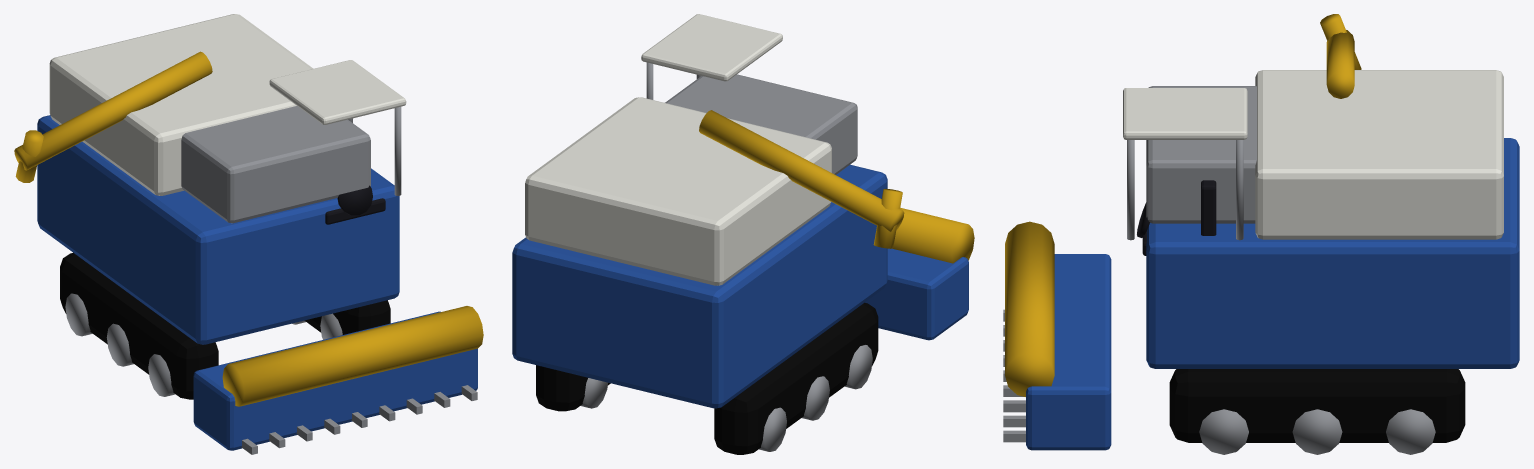
The model's file is combine.glb.
3 renders of one model, left to right at view 1: azimuth 30°, elevation 25°; view 2: azimuth 150°, elevation 25°; view 3: azimuth 270°, elevation 25°, orthographic. The views are drawn at different scales.
Parts seen in each view (by area): view 1: Cube, Cube.001, Cube.002, Cube.006, Cylinder.005, Cube.016, Cube.005, Cylinder.003, Cube.017, Cylinder.008, Cylinder.006, Cylinder.007 (+4 smaller); view 2: Cube, Cube.001, Cube.016, Cube.002, Cube.006, Cylinder.003, Cube.005, Cylinder.005, Cube.017, Cylinder.006, Cylinder.007, Cylinder.008 (+2 smaller); view 3: Cube, Cube.001, Cube.017, Cube.006, Cube.002, Cylinder.005, Cube.005, Cylinder.003, Cylinder.009, Cylinder.010, Cylinder.011, Cube.004 (+3 smaller).
Boxes of the visible parts, x1,y1,x2,y2 form: Cube: [37, 115, 399, 344]; Cube.001: [49, 14, 313, 195]; Cube.002: [181, 106, 370, 223]; Cube.006: [193, 311, 477, 450]; Cylinder.005: [222, 306, 483, 406]; Cube.016: [60, 252, 218, 399]; Cube.005: [269, 60, 406, 124]; Cylinder.003: [14, 51, 212, 170]; Cube.017: [304, 300, 390, 334]; Cylinder.008: [65, 293, 92, 336]; Cylinder.006: [148, 354, 175, 396]; Cylinder.007: [106, 323, 133, 366]; Cube: [512, 164, 887, 408]; Cube.001: [525, 97, 831, 285]; Cube.016: [714, 302, 878, 454]; Cube.002: [665, 74, 857, 174]; Cube.006: [865, 248, 968, 340]; Cylinder.003: [699, 110, 904, 231]; Cube.005: [641, 14, 782, 81]; Cylinder.005: [893, 207, 974, 263]; Cube.017: [536, 365, 610, 411]; Cylinder.006: [844, 345, 872, 389]; Cylinder.007: [802, 376, 829, 420]; Cylinder.008: [759, 407, 786, 451]; Cube: [1146, 138, 1519, 368]; Cube.001: [1255, 70, 1503, 239]; Cube.017: [1169, 369, 1465, 442]; Cube.006: [1026, 254, 1111, 450]; Cube.002: [1146, 86, 1256, 223]; Cylinder.005: [1005, 221, 1054, 396]; Cube.005: [1123, 88, 1247, 139]; Cylinder.003: [1326, 30, 1354, 98]; Cylinder.009: [1199, 409, 1248, 454]; Cylinder.010: [1292, 409, 1342, 454]; Cylinder.011: [1386, 409, 1435, 454]; Cube.004: [1201, 180, 1216, 235].
Bounding box in the file's own units: 2.7 × 2.25 × 3.32.
